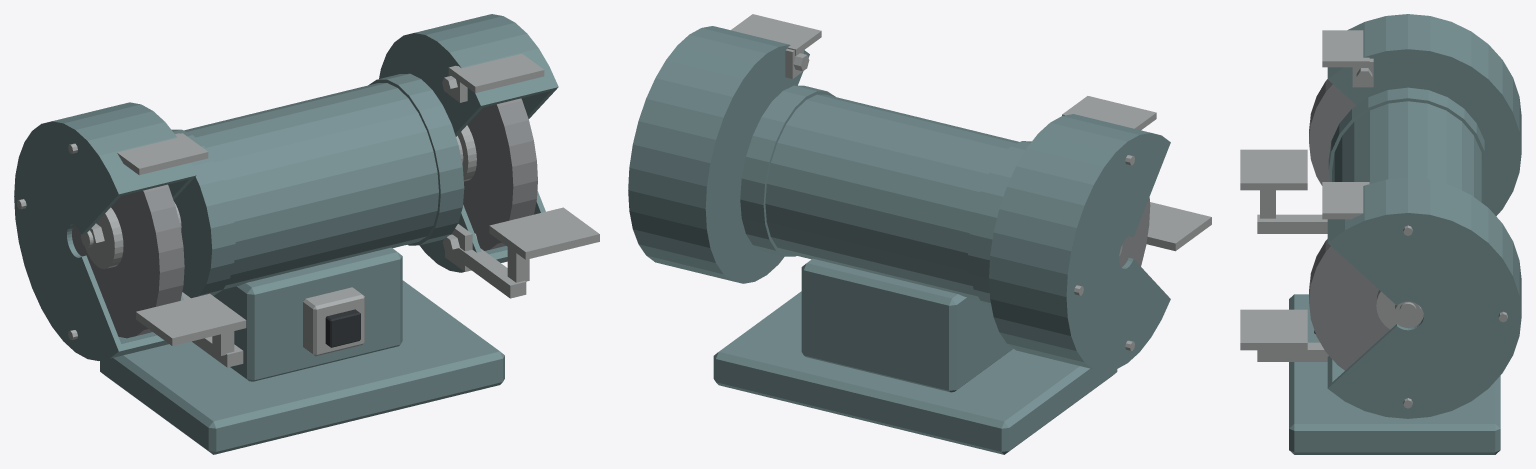
3 views of the same model, side by side, from view 1: azimuth 30°, elevation 25°; view 2: azimuth 150°, elevation 25°; view 3: azimuth 270°, elevation 25° (orthographic). The views are drawn at different scales.
Visible parts, largest first — view 1: Horizontal faceted motor housing, Complete planar cast base, Left outer guard cover, Motor pedestal, Left abrasive wheel with through bore, Right abrasive wheel with through bore, Left motor end bell, Left thick C-shaped guard rim, Right inner guard web, Right thick C-shaped guard rim, Right motor end bell, Left horizontal tool-rest plate (+12 smaller); view 2: Horizontal faceted motor housing, Complete planar cast base, Motor pedestal, Right thick C-shaped guard rim, Left thick C-shaped guard rim, Left outer guard cover, Right inner guard web, Right motor end bell, Left motor end bell, Left horizontal tool-rest plate, Right upper deflector lip, Left upper deflector lip (+3 smaller); view 3: Right outer guard cover, Complete planar cast base, Horizontal faceted motor housing, Left inner guard web, Right abrasive wheel with through bore, Right thick C-shaped guard rim, Left thick C-shaped guard rim, Left horizontal tool-rest plate, Right horizontal tool-rest plate, Left motor end bell, Left abrasive wheel with through bore, Left upper deflector lip (+8 smaller).
Part boxes in pixels (bbox=[...]): Horizontal faceted motor housing: bbox=[184, 83, 438, 289]; Complete planar cast base: bbox=[100, 280, 504, 454]; Left outer guard cover: bbox=[14, 120, 123, 360]; Motor pedestal: bbox=[213, 247, 402, 381]; Left abrasive wheel with through bore: bbox=[72, 184, 184, 338]; Right abrasive wheel with through bore: bbox=[463, 98, 537, 250]; Left motor end bell: bbox=[171, 129, 235, 298]; Left thick C-shaped guard rim: bbox=[57, 103, 191, 357]; Right inner guard web: bbox=[379, 32, 485, 272]; Right thick C-shaped guard rim: bbox=[419, 15, 553, 262]; Right motor end bell: bbox=[368, 73, 464, 245]; Left horizontal tool-rest plate: bbox=[136, 293, 246, 345]; Horizontal faceted motor housing: bbox=[765, 94, 1019, 300]; Complete planar cast base: bbox=[713, 291, 1117, 454]; Motor pedestal: bbox=[801, 258, 1013, 392]; Right thick C-shaped guard rim: bbox=[633, 27, 784, 279]; Left thick C-shaped guard rim: bbox=[994, 115, 1145, 367]; Left outer guard cover: bbox=[1061, 131, 1170, 371]; Right inner guard web: bbox=[700, 43, 809, 283]; Right motor end bell: bbox=[740, 85, 835, 256]; Left motor end bell: bbox=[968, 141, 1031, 306]; Left horizontal tool-rest plate: bbox=[1146, 202, 1211, 251]; Right upper deflector lip: bbox=[731, 14, 821, 55]; Left upper deflector lip: bbox=[1062, 96, 1156, 130]; Right outer guard cover: bbox=[1327, 210, 1521, 418]; Complete planar cast base: bbox=[1289, 294, 1500, 454]; Horizontal faceted motor housing: bbox=[1332, 101, 1483, 203]; Left inner guard web: bbox=[1327, 47, 1521, 216]; Right abrasive wheel with through bore: bbox=[1309, 239, 1389, 370]; Right thick C-shaped guard rim: bbox=[1327, 180, 1521, 385]; Left thick C-shaped guard rim: bbox=[1327, 16, 1521, 146]; Left horizontal tool-rest plate: bbox=[1240, 149, 1307, 190]; Right horizontal tool-rest plate: bbox=[1240, 309, 1307, 350]; Left motor end bell: bbox=[1328, 87, 1487, 189]; Left abrasive wheel with through bore: bbox=[1309, 79, 1356, 185]; Left upper deflector lip: bbox=[1322, 30, 1369, 67].
Bounding box in the file's own units: 0.364 × 0.231 × 0.213.
